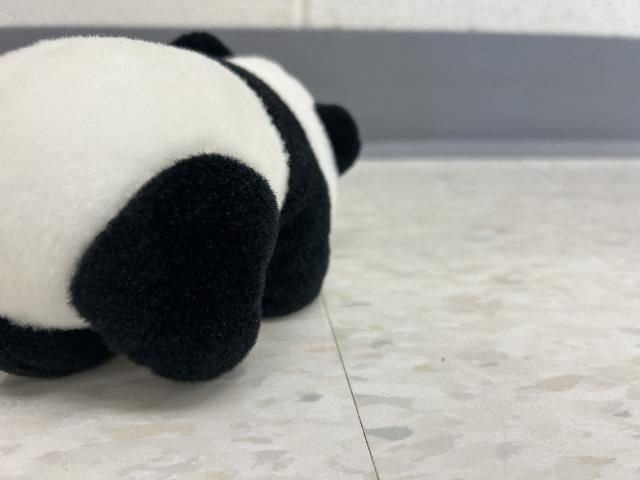panda_plushie: (1, 29, 362, 386)
